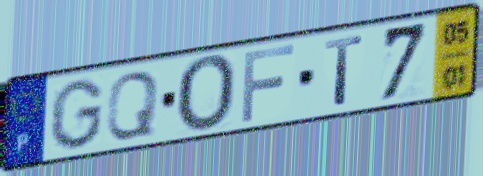7: (378, 19, 430, 105)
F: (239, 41, 297, 125)
G: (46, 77, 106, 152)
O: (174, 53, 240, 136)
Q: (103, 68, 162, 142)
T: (323, 32, 366, 108)
